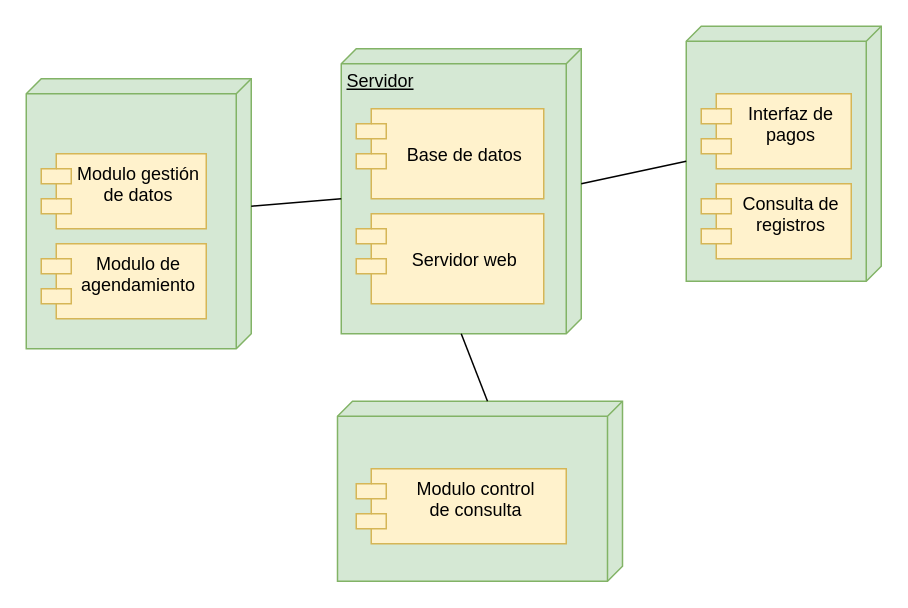
Some shapes in this 908 by 608 pixel diagram are drawn without their labels. The shapes that lost their labels are listed below. From the top down, each one's box as (x1, y1, x2, y2) in pixels, then its label:
(685, 25, 881, 281): Cliente
(25, 77, 251, 349): Equipo Auxiiliar
(336, 400, 622, 581): Equipo Veterinario
